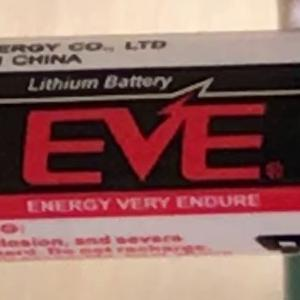keyword: (19, 70, 102, 100)
